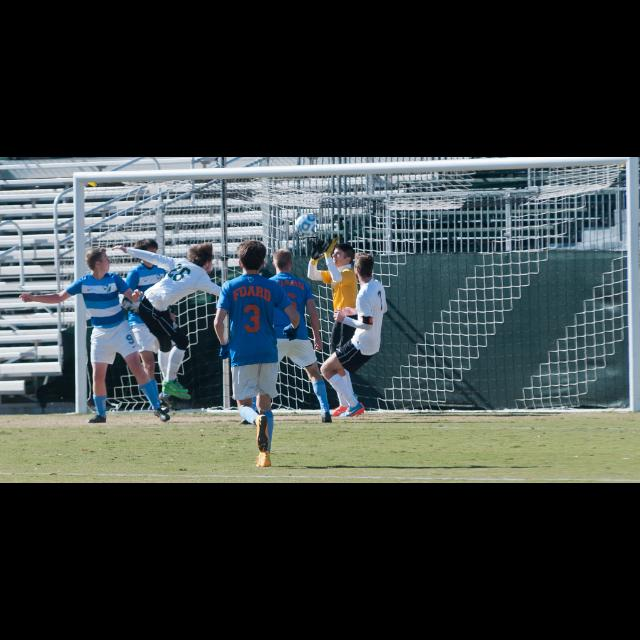Football: (296, 214, 316, 238)
